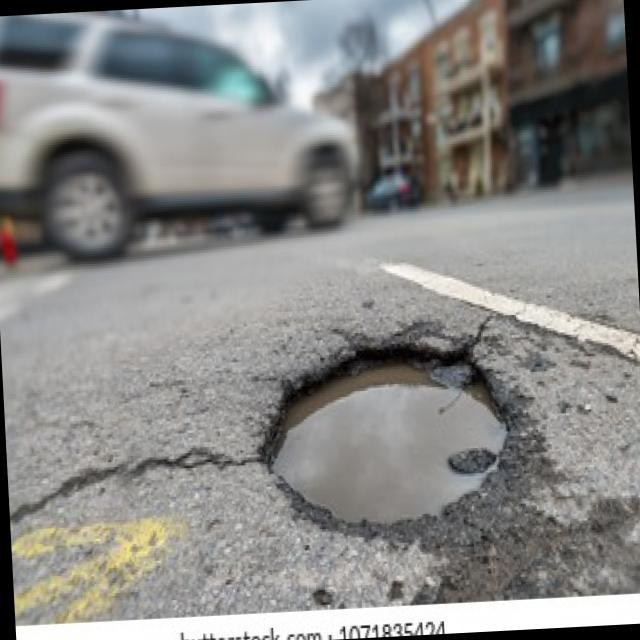Pothole: (254, 328, 522, 534)
